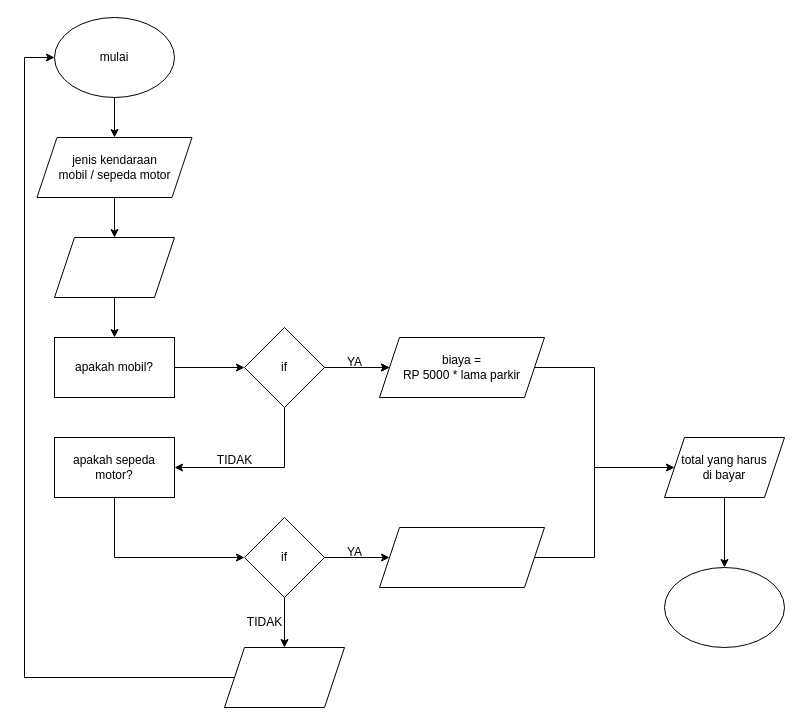
Some shapes in this 802 by 725 pixel diagram are drawn without their labels. Each missing label, with the box of its shape:
biaya = RP 3000 * lama parkir: (378, 526, 544, 588)
kendaraan tidak valid: (224, 646, 344, 708)
lama parkir per jam: (54, 236, 174, 298)
selesai: (664, 566, 784, 648)
